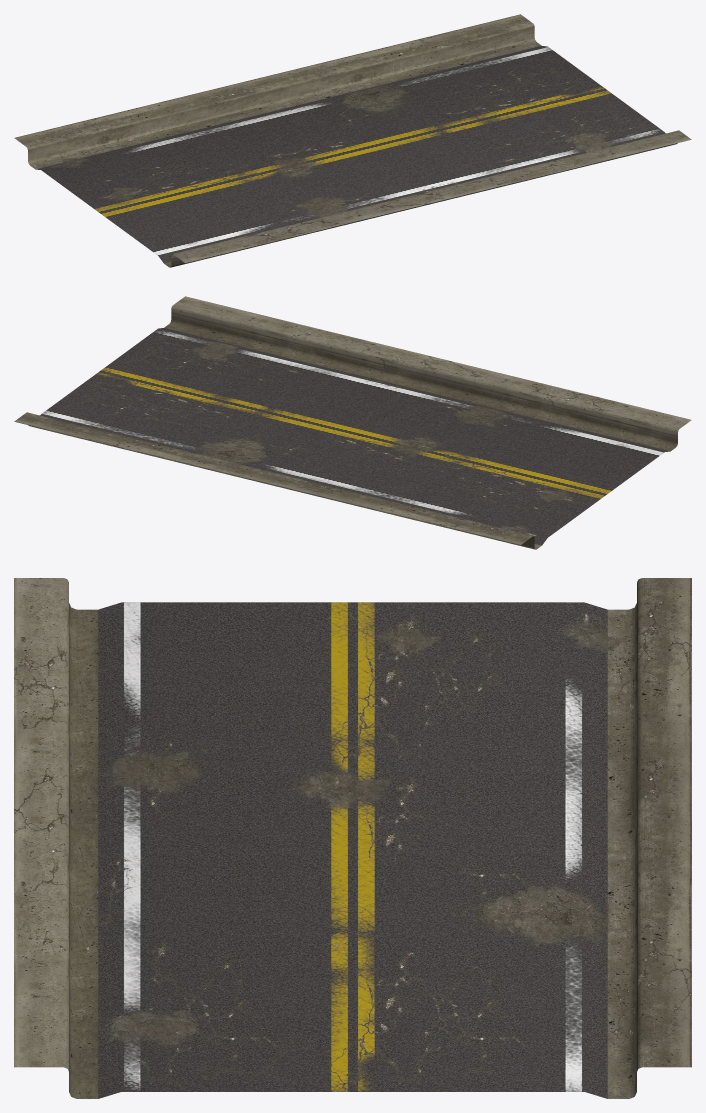
The model's file is road-standard.glb.
3 views of the same model, one above another, from view 1: azimuth 30°, elevation 25°; view 2: azimuth 150°, elevation 25°; view 3: azimuth 270°, elevation 25° (orthographic). The views are drawn at different scales.
Visible parts, largest first — view 1: Plane; view 2: Plane; view 3: Plane.
Boxes of the visible parts, x1,y1,x2,y2 form: Plane: [14, 14, 691, 267]; Plane: [14, 296, 691, 549]; Plane: [14, 578, 691, 1098].
Size of the model in its own units: 7.25 by 0.2176 by 4.24.
Materials: 1 (1 with a texture image).
